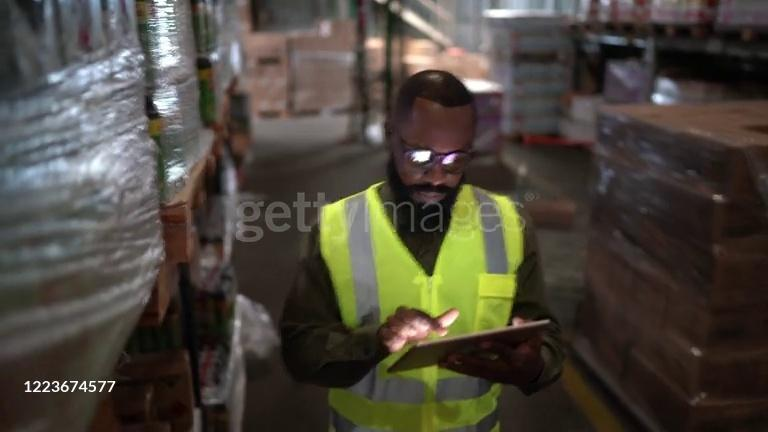person: (279, 66, 565, 432)
